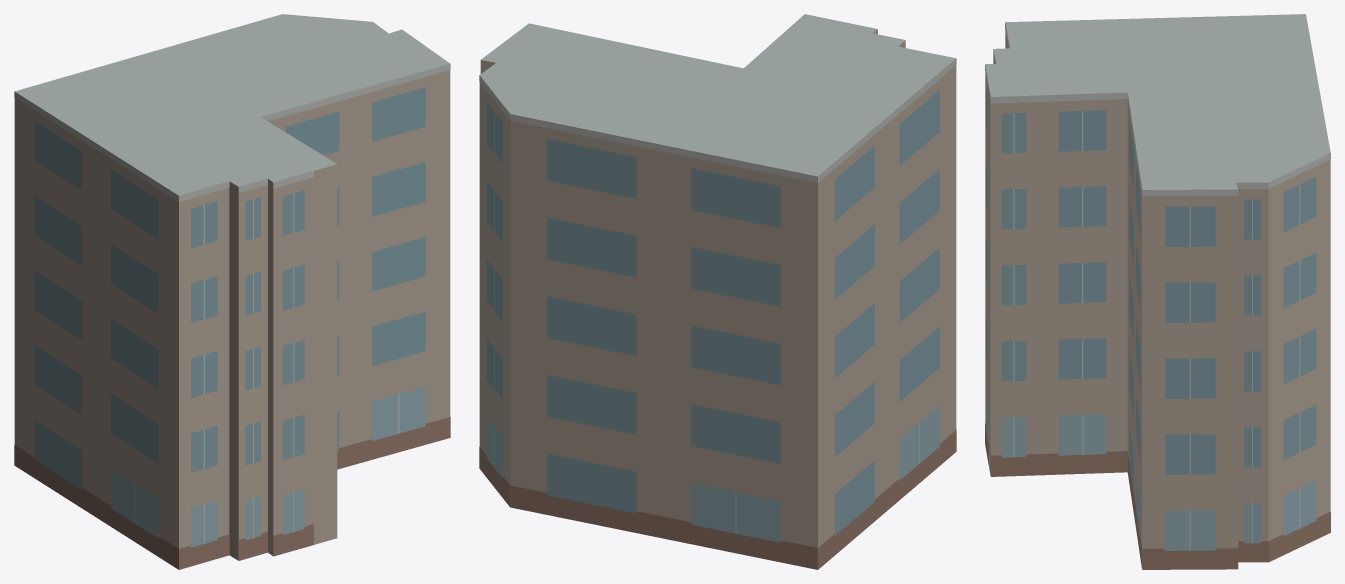
File: survey-upis-32619410.glb
3 views of the same model, side by side, from view 1: azimuth 30°, elevation 25°; view 2: azimuth 150°, elevation 25°; view 3: azimuth 270°, elevation 25° (orthographic). The views are drawn at different scales.
Visible parts, largest first — view 1: survey-upis-32619410.tmp; view 2: survey-upis-32619410.tmp; view 3: survey-upis-32619410.tmp.
Part boxes in pixels (x1,y1,x2,y2): survey-upis-32619410.tmp: [14, 14, 450, 569]; survey-upis-32619410.tmp: [479, 14, 956, 569]; survey-upis-32619410.tmp: [985, 14, 1330, 569].
Bounding box in the file's own units: 14.33 × 14.4 × 11.89.
